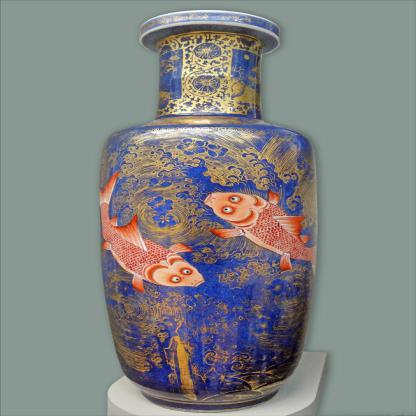vase: (99, 9, 320, 412)
